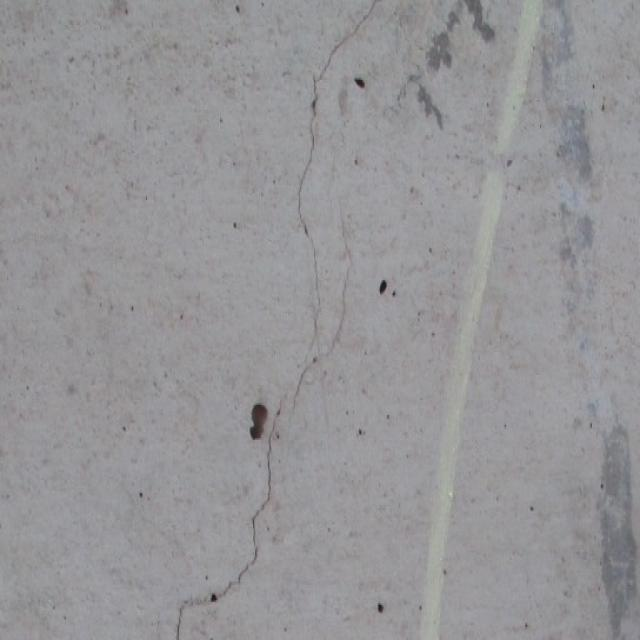crack: (172, 1, 379, 638)
